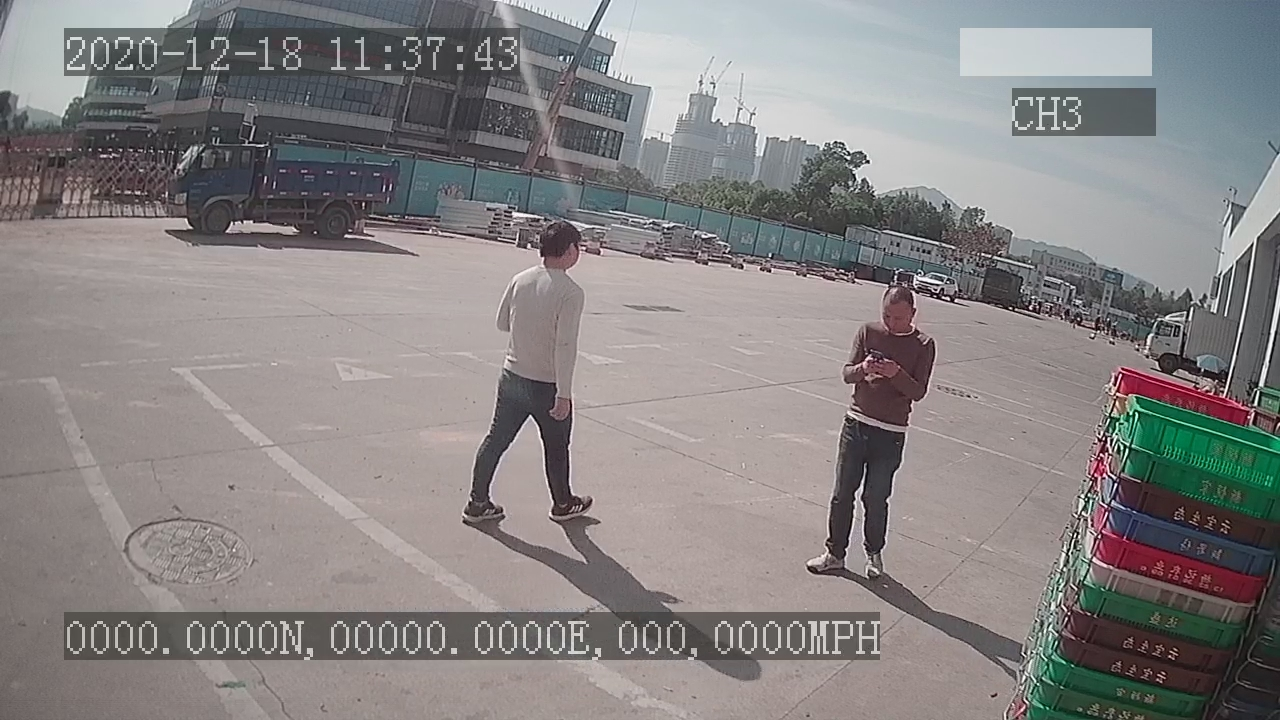person: (463, 212, 608, 532), (801, 282, 936, 583)
